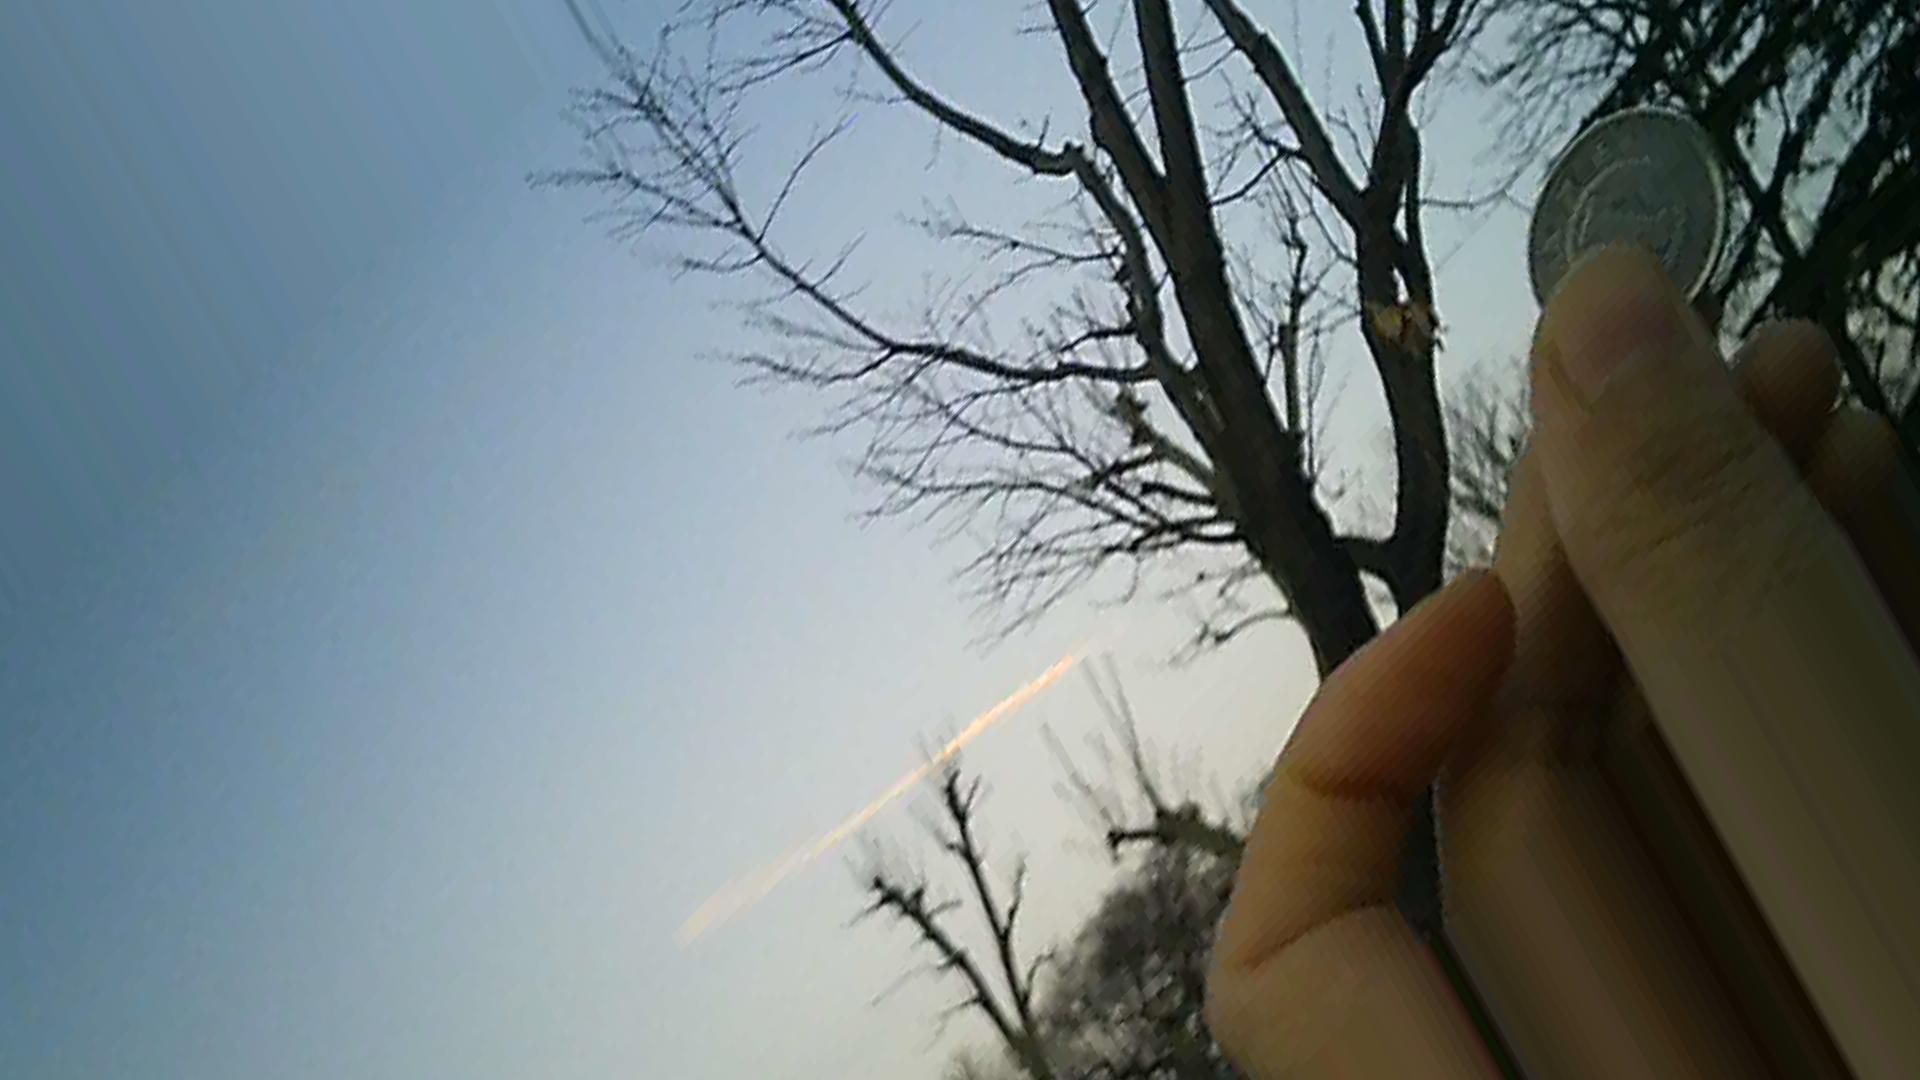1 Yen: (1524, 90, 1729, 324)
